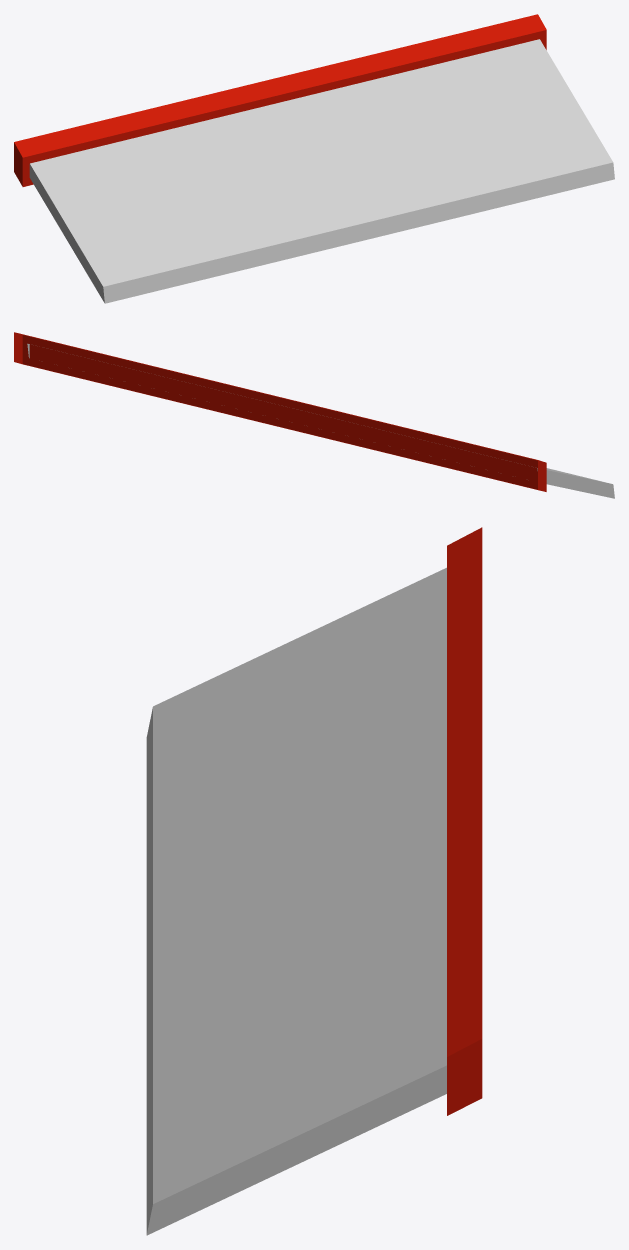
Rendered from wall_props_a.obj.
The picture shows the model from 3 angles, top to bottom: view 1: azimuth 30°, elevation 25°; view 2: azimuth 150°, elevation 25°; view 3: azimuth 270°, elevation 25°; orthographic projection. The views are drawn at different scales.
Parts seen in each view (by area): view 1: wall_props_a; view 2: wall_props_a; view 3: wall_props_a.
Part boxes in pixels (x1,y1,x2,y2): wall_props_a: (14, 14, 614, 303); wall_props_a: (14, 332, 614, 498); wall_props_a: (146, 527, 482, 1235).
Size of the model in its own units: 2 by 0.372 by 0.555.
